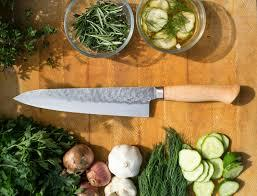Knife: (11, 83, 243, 117)
